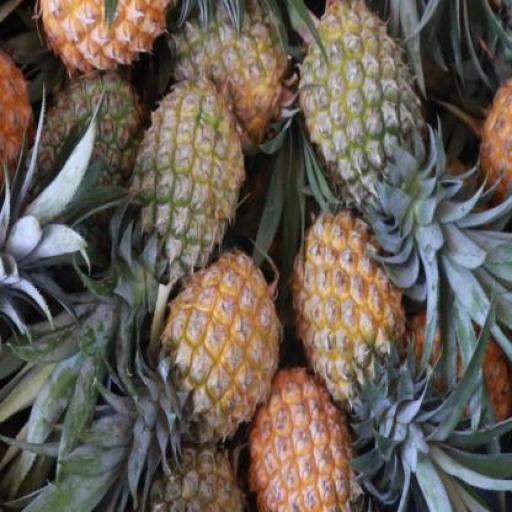------------------------------: (298, 2, 416, 216), (130, 83, 236, 278), (170, 2, 288, 144)
Pineapple - v8 v1: (289, 211, 398, 406), (168, 253, 275, 441), (250, 365, 363, 512)
